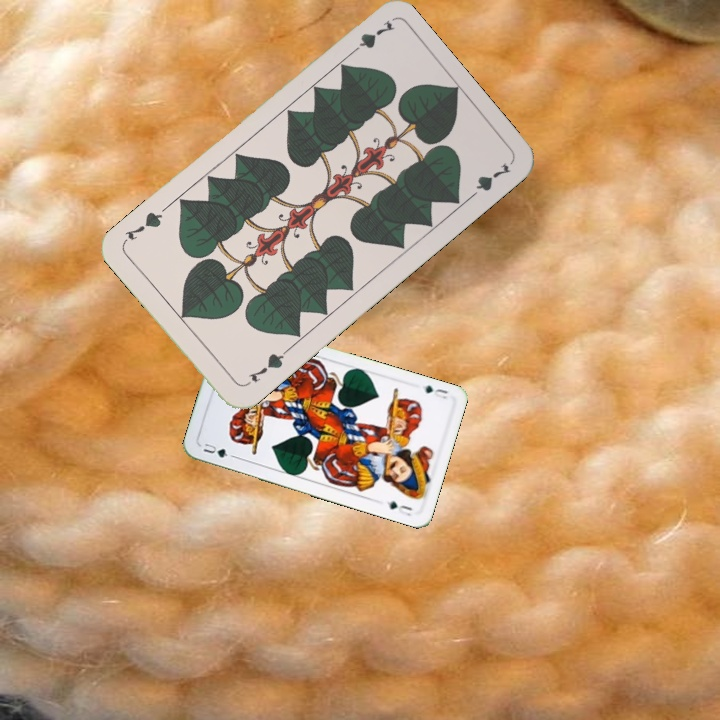G7: (343, 16, 398, 60), (241, 346, 290, 389)
GU: (199, 439, 237, 460), (418, 381, 451, 401)
